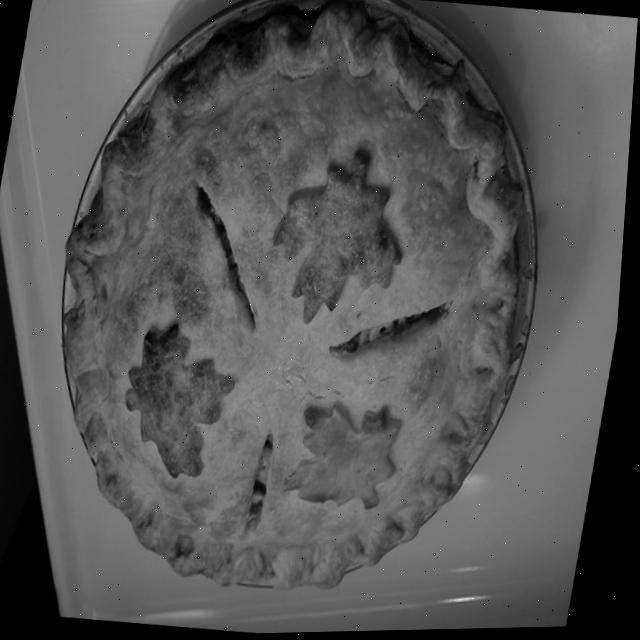炸货点心: (0, 0, 601, 639)
蛋糕甜品: (0, 0, 601, 639)
